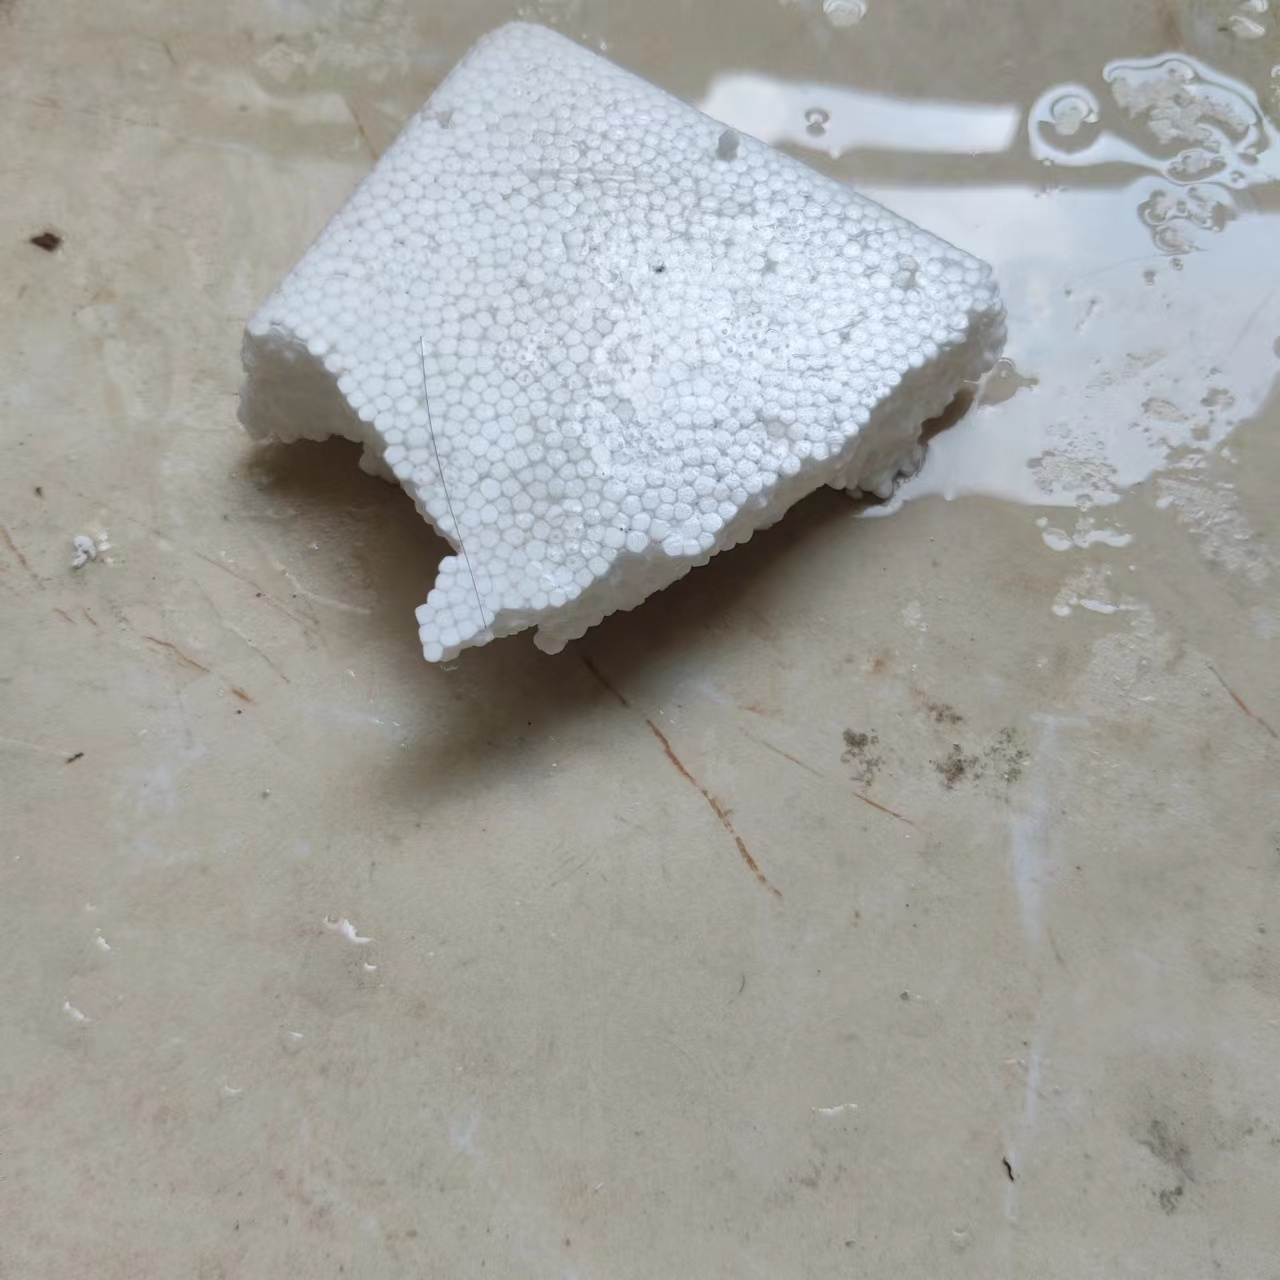5/可回收垃圾/泡沫: (241, 21, 1009, 663)
